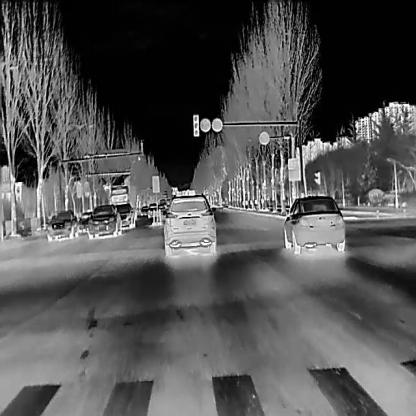car: (282, 193, 345, 254), (162, 190, 215, 254), (86, 202, 122, 238), (46, 207, 78, 241), (116, 202, 135, 229), (140, 205, 148, 215)
truck: (109, 184, 135, 212)
